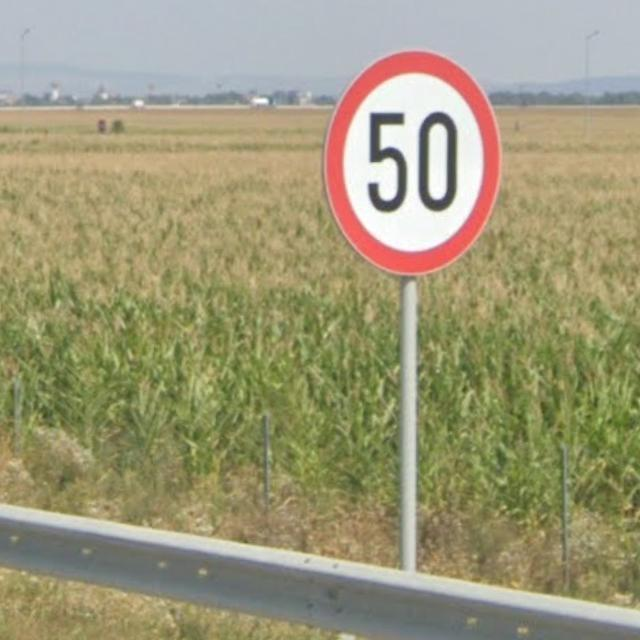forb_speed_over_50: (326, 50, 502, 275)
